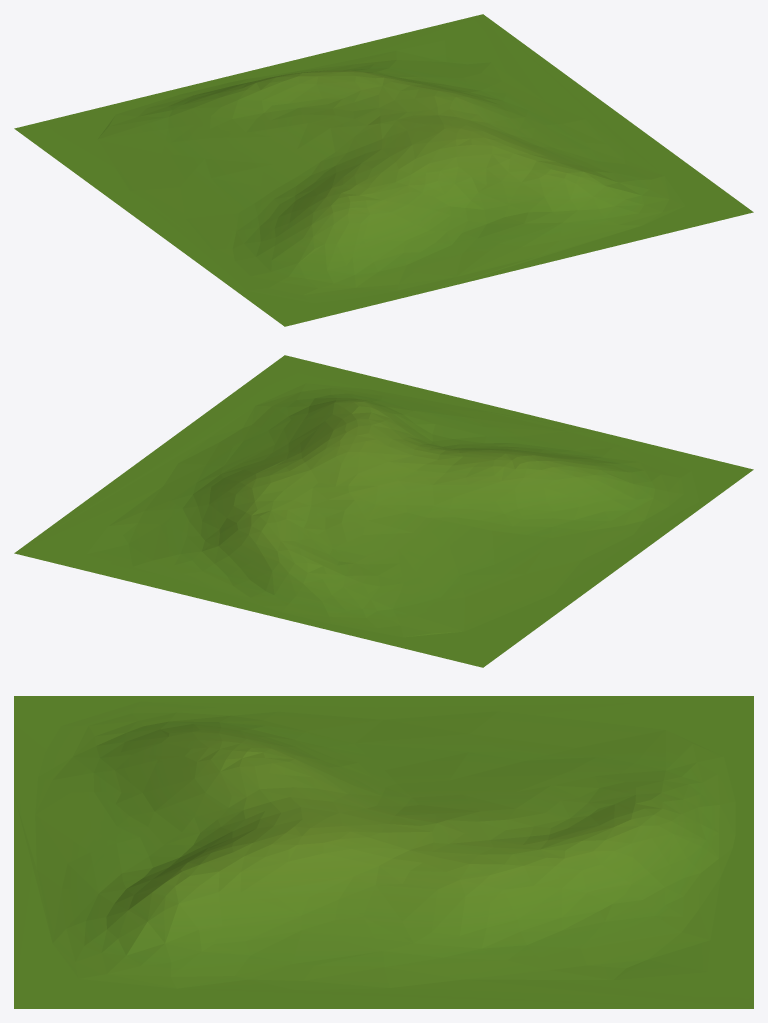
Rendered from Terrain_08.fbx.
The picture shows the model from 3 angles, top to bottom: view 1: azimuth 30°, elevation 25°; view 2: azimuth 150°, elevation 25°; view 3: azimuth 270°, elevation 25°; orthographic projection. The views are drawn at different scales.
Visible parts, largest first — view 1: Terrain_08; view 2: Terrain_08; view 3: Terrain_08.
Boxes of the visible parts, bbox=[...] form: Terrain_08: bbox=[14, 14, 753, 326]; Terrain_08: bbox=[14, 355, 753, 667]; Terrain_08: bbox=[14, 696, 753, 1008].
Bounding box in the file's own units: 12800 × 1066 × 12800.
